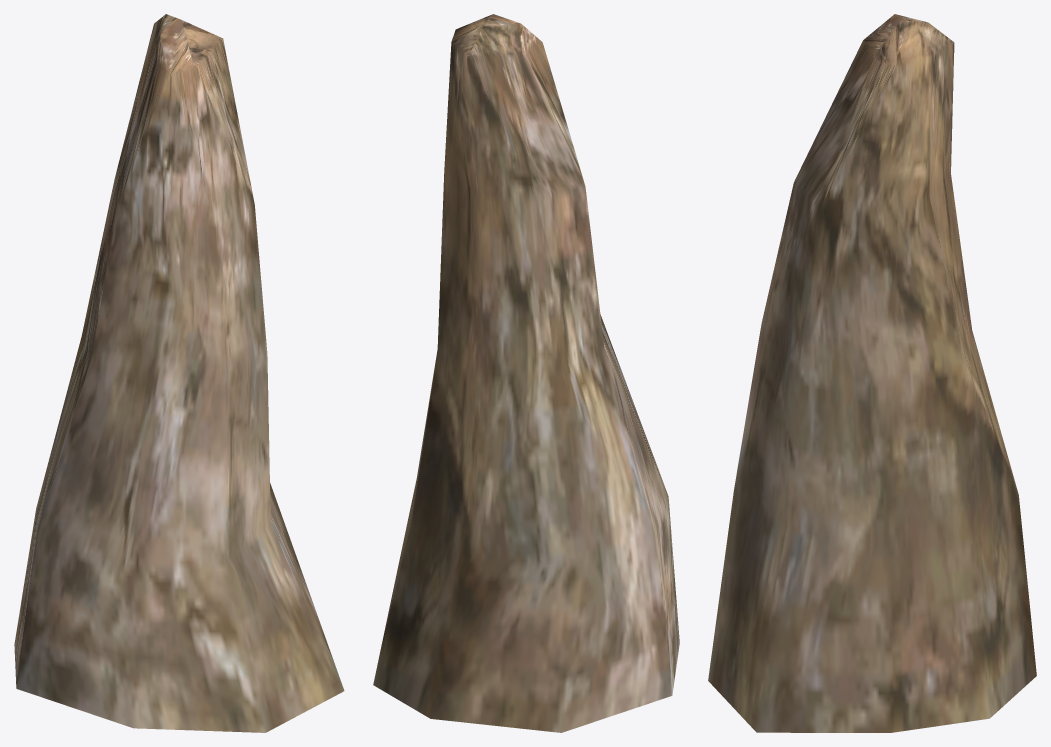
File: thm_tato_cave_stalagmite_sml_l0.fbx
3 renders of one model, left to right at view 1: azimuth 30°, elevation 25°; view 2: azimuth 150°, elevation 25°; view 3: azimuth 270°, elevation 25°, orthographic. The views are drawn at different scales.
Visible parts, largest first — view 1: mesh_node; view 2: mesh_node; view 3: mesh_node.
Boxes of the visible parts, x1=… form: mesh_node: x1=14, y1=14, x2=344, y2=732; mesh_node: x1=373, y1=14, x2=679, y2=732; mesh_node: x1=708, y1=14, x2=1036, y2=732.
Size of the model in its own units: 1.05 by 2.4 by 1.08.
